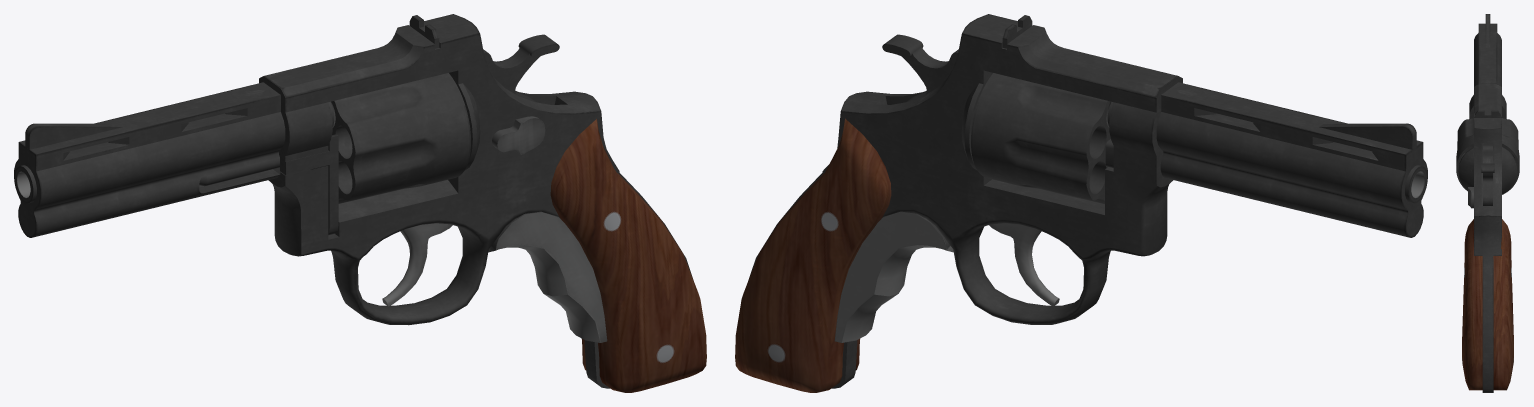
The model's file is revolver.glb.
3 renders of one model, left to right at view 1: azimuth 30°, elevation 25°; view 2: azimuth 150°, elevation 25°; view 3: azimuth 270°, elevation 25°, orthographic. The views are drawn at different scales.
Visible parts, largest first — view 1: Revolver_Low_Poly; view 2: Revolver_Low_Poly; view 3: Revolver_Low_Poly.
Part boxes in pixels (x1,y1,x2,y2): Revolver_Low_Poly: (14, 14, 706, 392); Revolver_Low_Poly: (735, 14, 1427, 392); Revolver_Low_Poly: (1456, 14, 1519, 392).
Size of the model in its own units: 0.4553 by 0.263 by 0.0701.
Materials: 1 (1 with a texture image).
